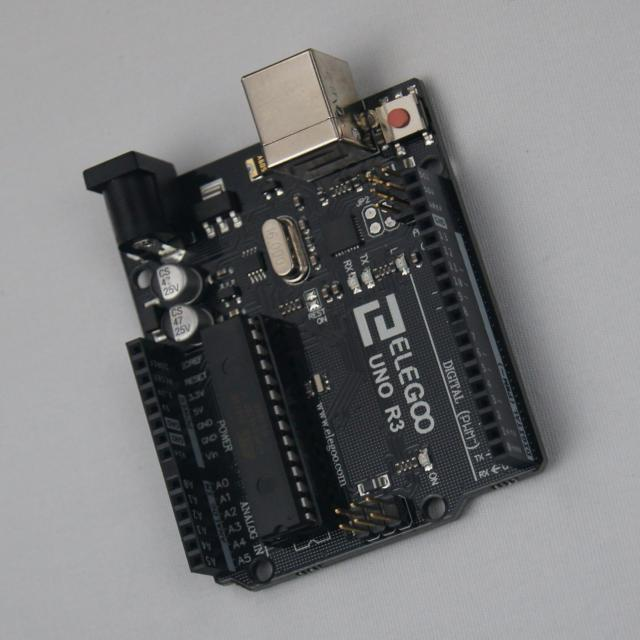Arduino Uno -Black-: (85, 50, 545, 589)
